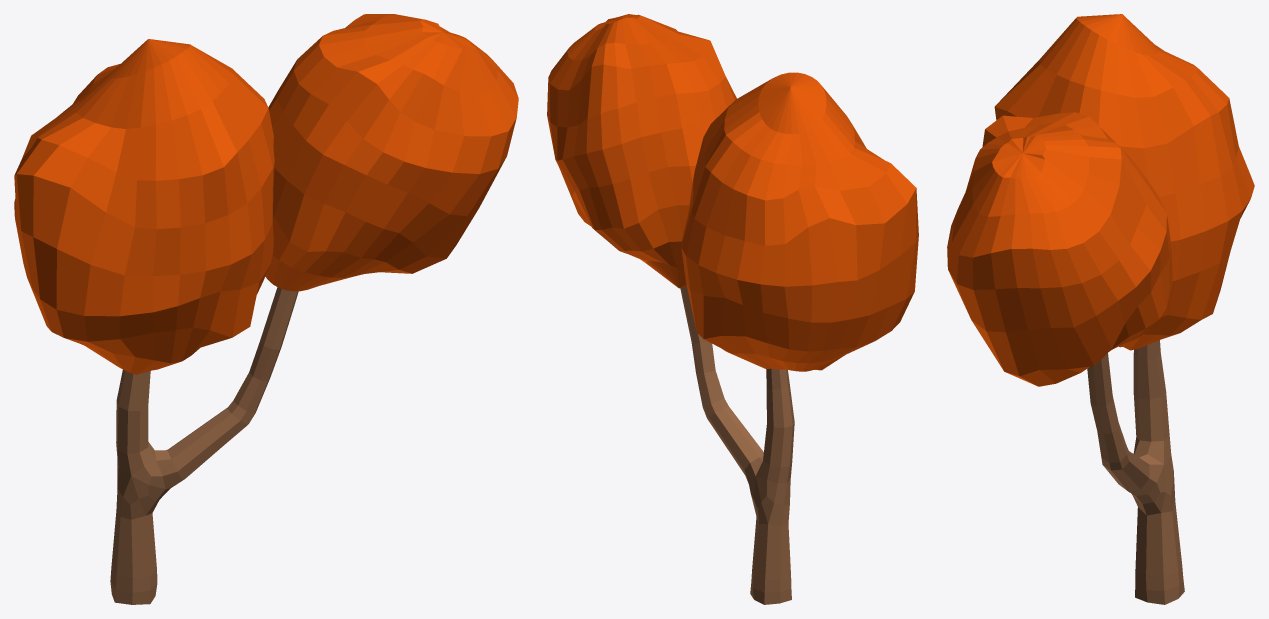
File: tree-autumn-complete-12-004.glb
3 renders of one model, left to right at view 1: azimuth 30°, elevation 25°; view 2: azimuth 150°, elevation 25°; view 3: azimuth 270°, elevation 25°, orthographic. The views are drawn at different scales.
Visible parts, largest first — view 1: TREE 12.003_386, TREE 12.002_387; view 2: TREE 12.003_386, TREE 12.002_387; view 3: TREE 12.003_386, TREE 12.002_387.
Part boxes in pixels (left/top/right/bottom): TREE 12.003_386: left=14, top=14, right=518, bottom=374; TREE 12.002_387: left=110, top=287, right=298, bottom=604; TREE 12.003_386: left=547, top=14, right=918, bottom=371; TREE 12.002_387: left=680, top=286, right=794, bottom=604; TREE 12.003_386: left=947, top=14, right=1254, bottom=386; TREE 12.002_387: left=1087, top=340, right=1184, bottom=604.
Size of the model in its own units: 1.4 by 1.72 by 0.828.
